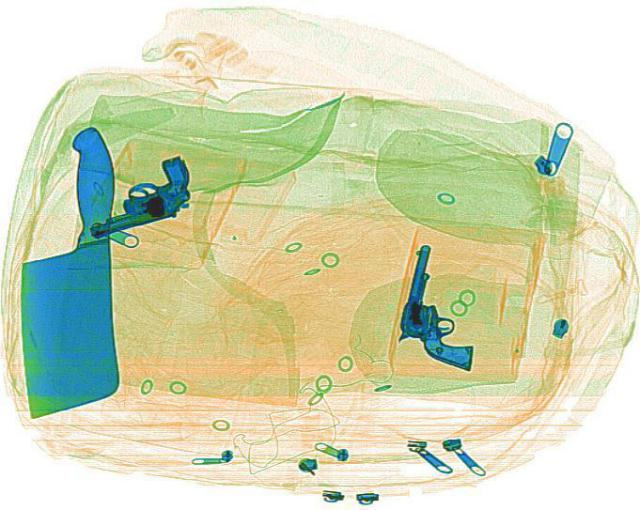Gun: (386, 243, 500, 369), (64, 152, 210, 237)
Knife: (20, 127, 116, 415)
